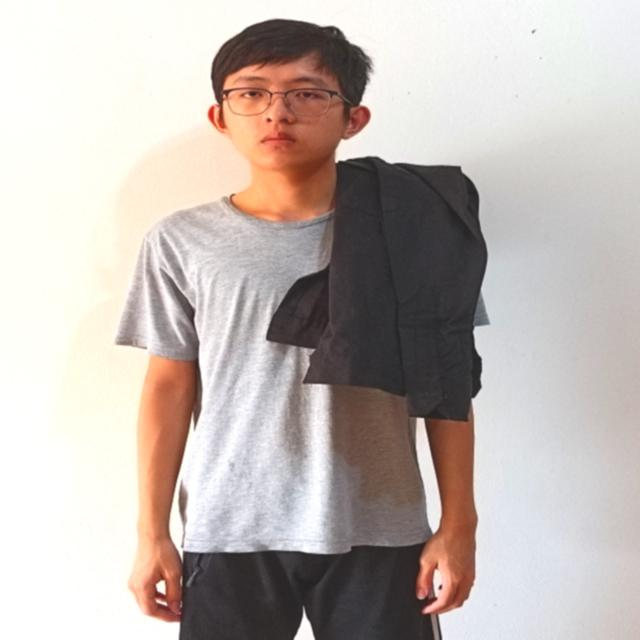person_without_labcoat: (115, 20, 488, 640)
